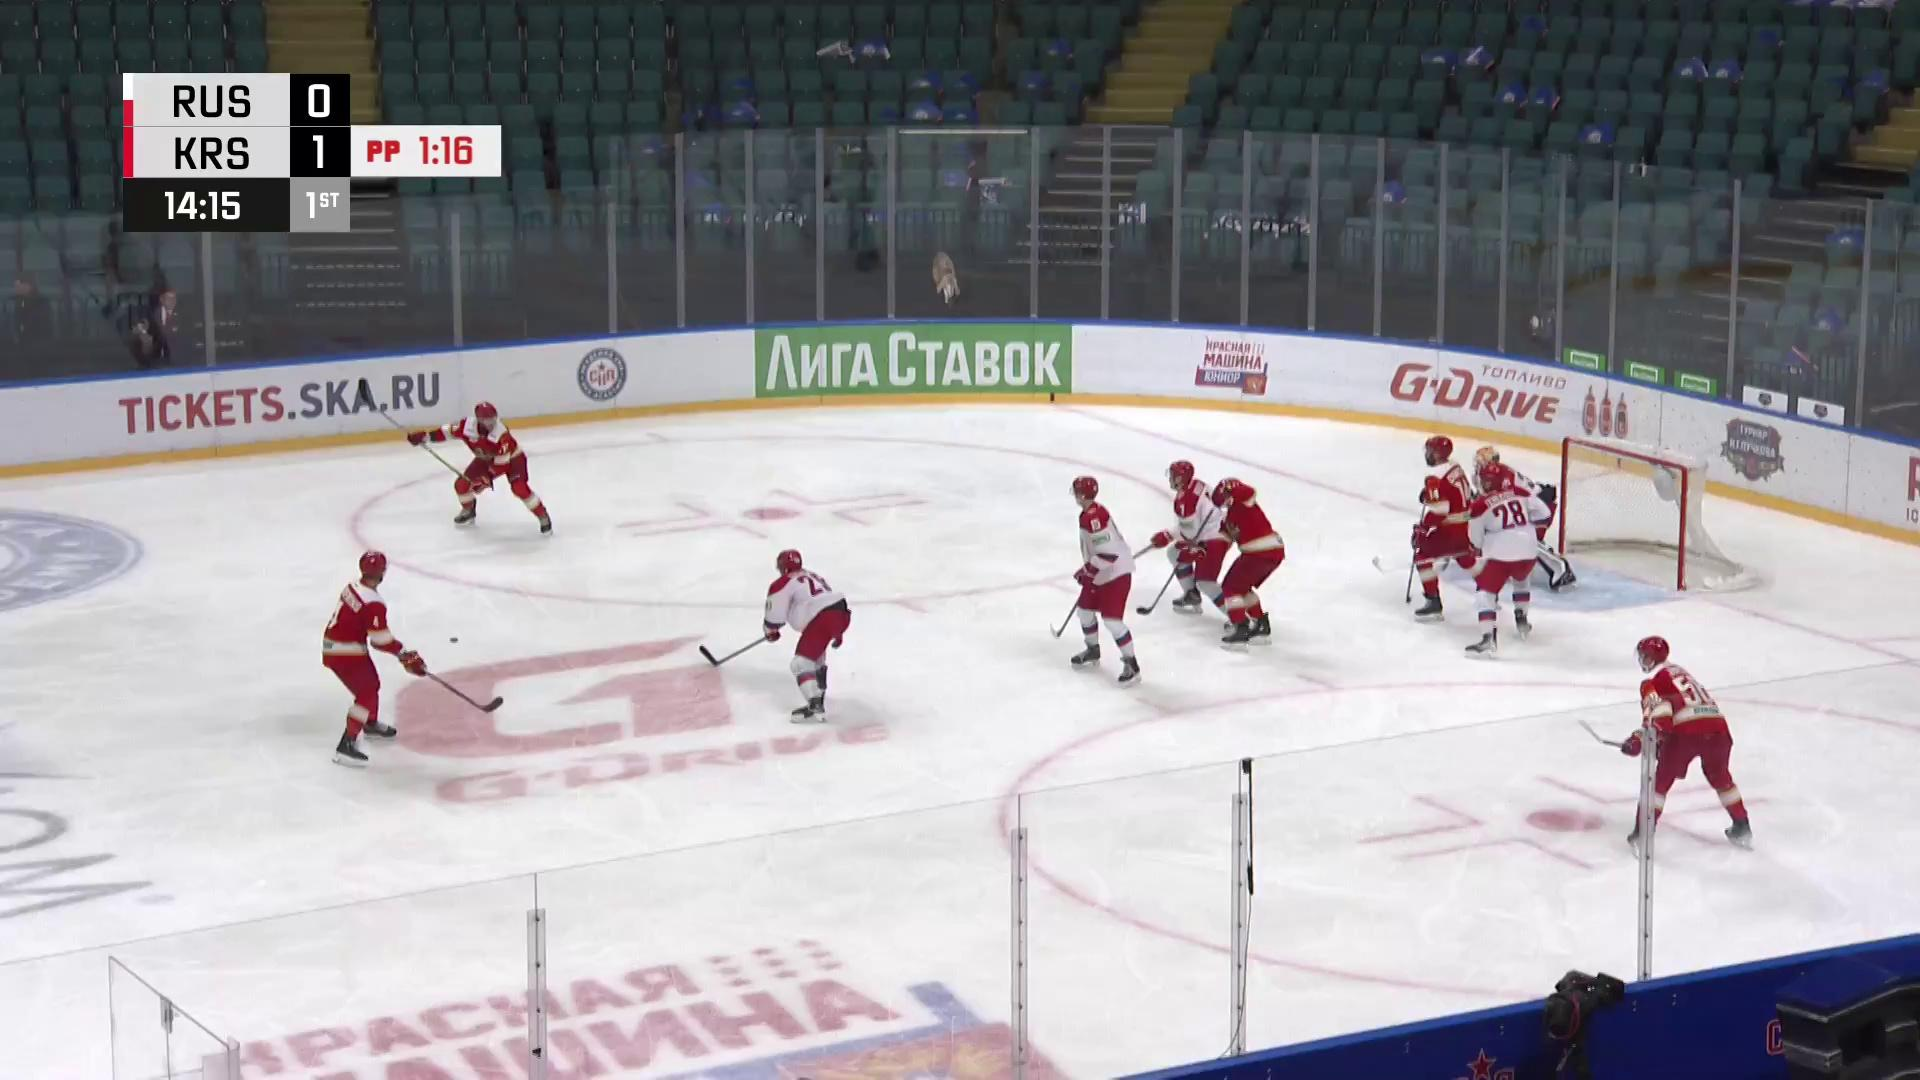ball: (448, 636, 460, 645)
